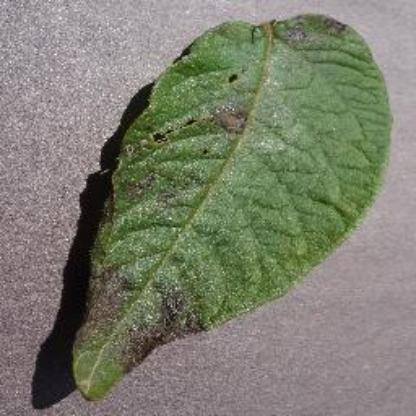Late-Blight: (46, 7, 398, 406)
